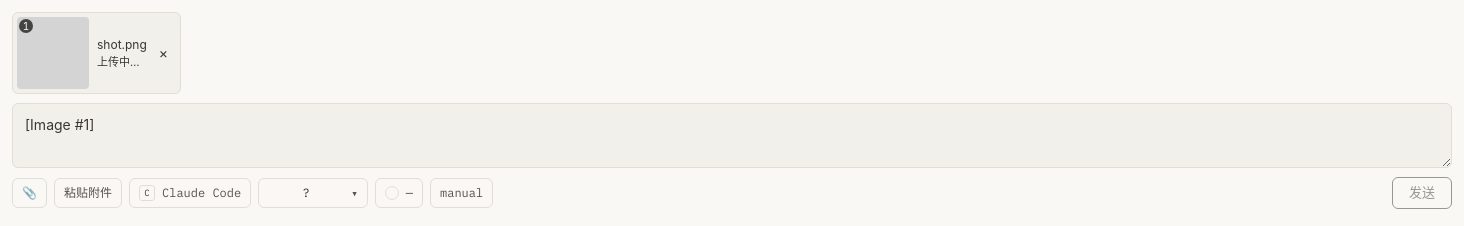
Test: composer attachments › removes a chip on request
Expected: the element with test id "attachment-chip" is shown, [12, 12, 181, 94]
Click the button with test id "attachment-remove".
click(163, 53)  # box [155, 42, 172, 64]
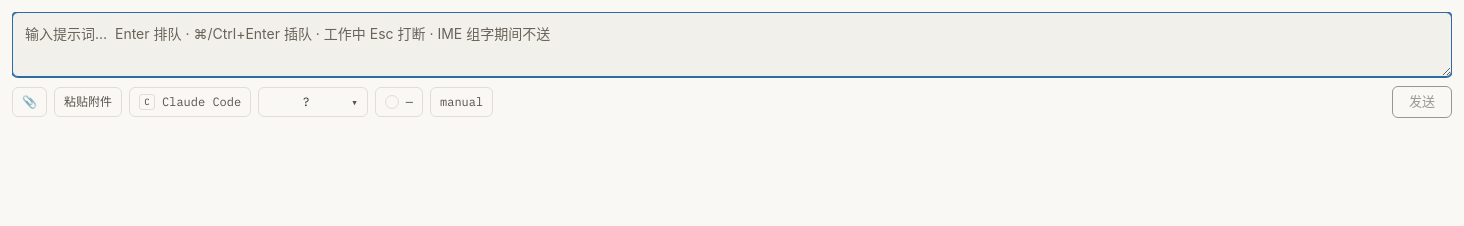
Expected: the element with test id "attachment-chip" is gone
